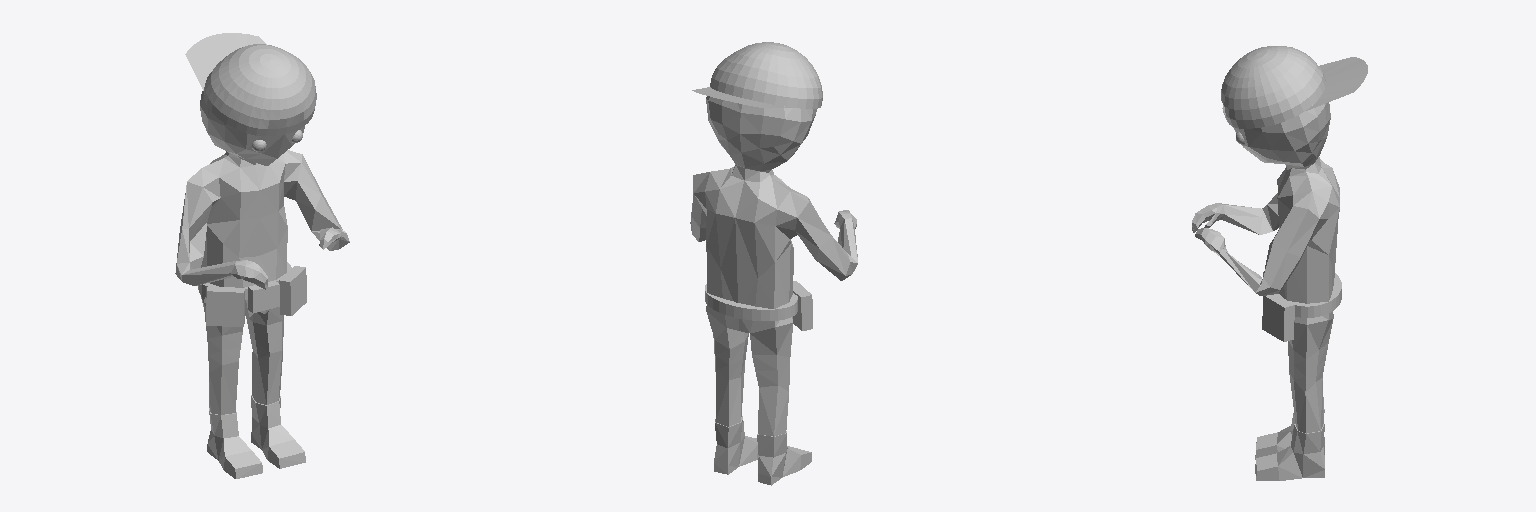
Rendered from Main_Character_Computer_8.obj.
The picture shows the model from 3 angles: view 1: azimuth 30°, elevation 25°; view 2: azimuth 150°, elevation 25°; view 3: azimuth 270°, elevation 25°; orthographic projection.
Parts seen in each view (by area): view 1: Main_Character_Test.003_Main_Character_Test.004; view 2: Main_Character_Test.003_Main_Character_Test.004; view 3: Main_Character_Test.003_Main_Character_Test.004.
Boxes of the visible parts, x1,y1,x2,y2 form: Main_Character_Test.003_Main_Character_Test.004: [175, 33, 349, 478]; Main_Character_Test.003_Main_Character_Test.004: [690, 42, 857, 485]; Main_Character_Test.003_Main_Character_Test.004: [1192, 46, 1367, 480].
Size of the model in its own units: 1.64 by 3.93 by 1.52.